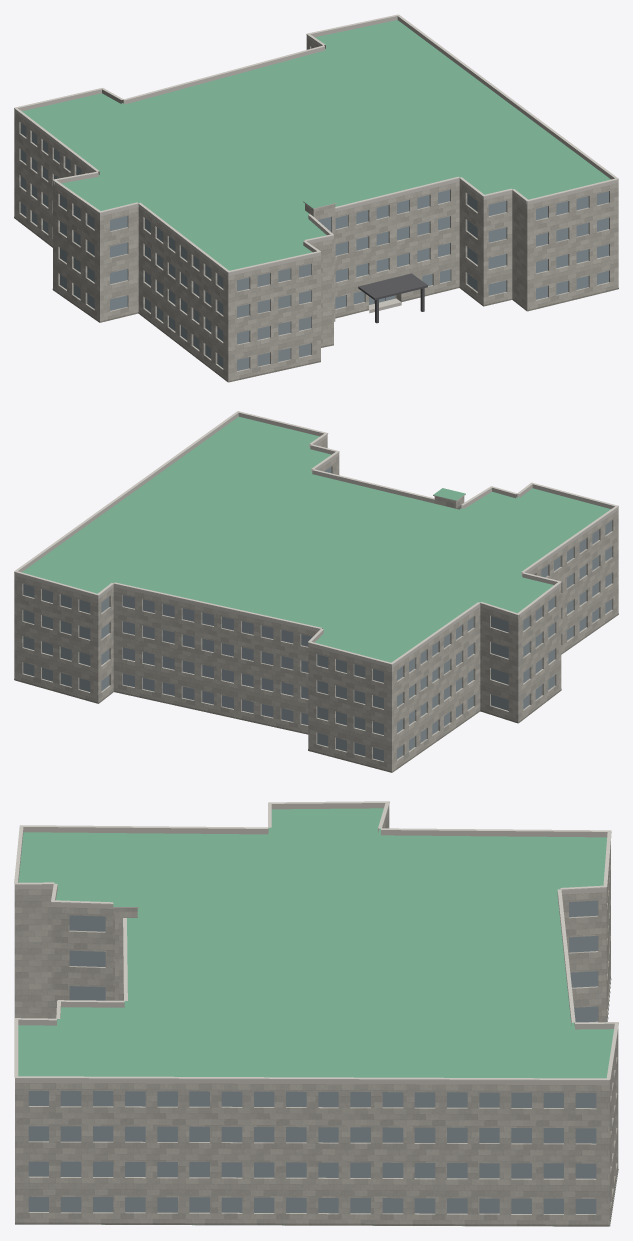
3 renders of one model, top to bottom at view 1: azimuth 30°, elevation 25°; view 2: azimuth 150°, elevation 25°; view 3: azimuth 270°, elevation 25°, orthographic. The views are drawn at different scales.
Parts seen in each view (by area): view 1: osm136961695__roof, osm136961695__wall, osm136961695__glass, osm136961695__parapet, osm136961695__trim, osm136961695__canopy, osm136961695__base; view 2: osm136961695__roof, osm136961695__wall, osm136961695__glass, osm136961695__parapet, osm136961695__trim, osm136961695__base; view 3: osm136961695__roof, osm136961695__wall, osm136961695__glass, osm136961695__parapet, osm136961695__trim, osm136961695__base.
Part boxes in pixels (bbox=[...]): osm136961695__roof: bbox=[22, 20, 610, 270]; osm136961695__wall: bbox=[14, 38, 618, 382]; osm136961695__glass: bbox=[20, 47, 608, 370]; osm136961695__parapet: bbox=[14, 16, 618, 276]; osm136961695__trim: bbox=[14, 14, 618, 272]; osm136961695__canopy: bbox=[358, 273, 427, 323]; osm136961695__base: bbox=[14, 217, 618, 382]; osm136961695__roof: bbox=[22, 416, 610, 662]; osm136961695__wall: bbox=[14, 437, 618, 772]; osm136961695__glass: bbox=[23, 467, 611, 761]; osm136961695__parapet: bbox=[14, 412, 618, 667]; osm136961695__trim: bbox=[14, 411, 618, 664]; osm136961695__base: bbox=[14, 613, 618, 772]; osm136961695__roof: bbox=[18, 808, 613, 1226]; osm136961695__wall: bbox=[14, 808, 618, 1225]; osm136961695__glass: bbox=[28, 900, 597, 1213]; osm136961695__parapet: bbox=[14, 803, 614, 1085]; osm136961695__trim: bbox=[14, 801, 618, 1080]; osm136961695__base: bbox=[15, 978, 618, 1226].
Size of the model in its own units: 60.93 by 16.55 by 55.88.
Materials: 10 (2 with a texture image).
